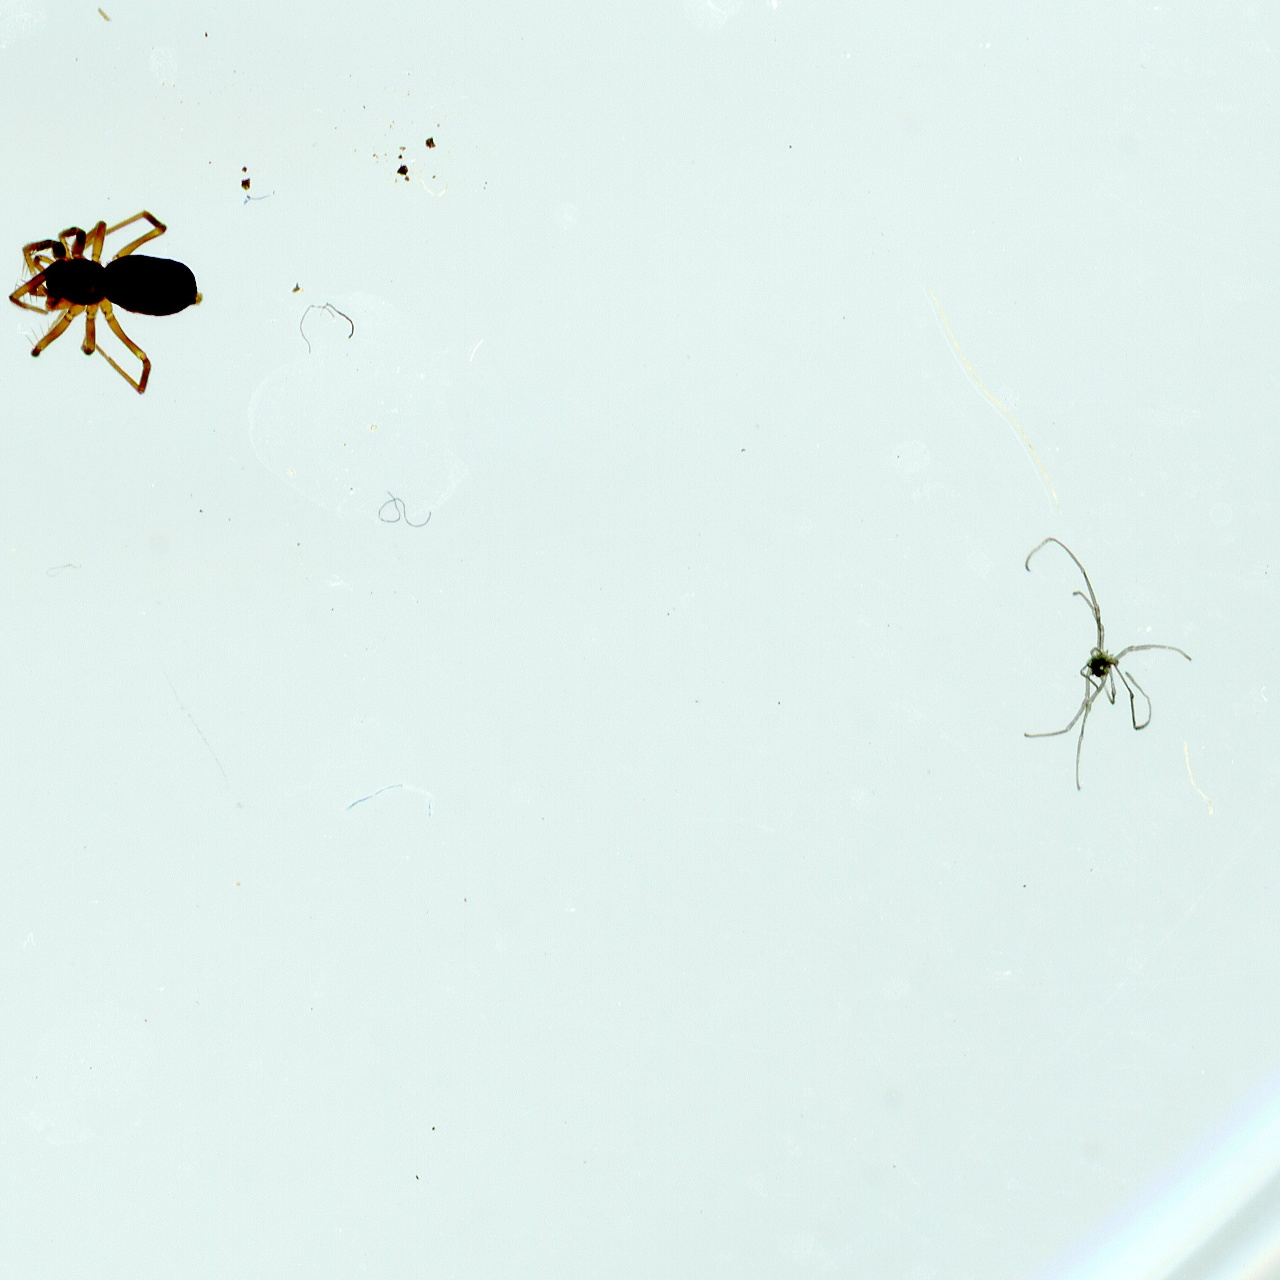arthropod: (1010, 502, 1200, 796), (0, 165, 216, 402)
